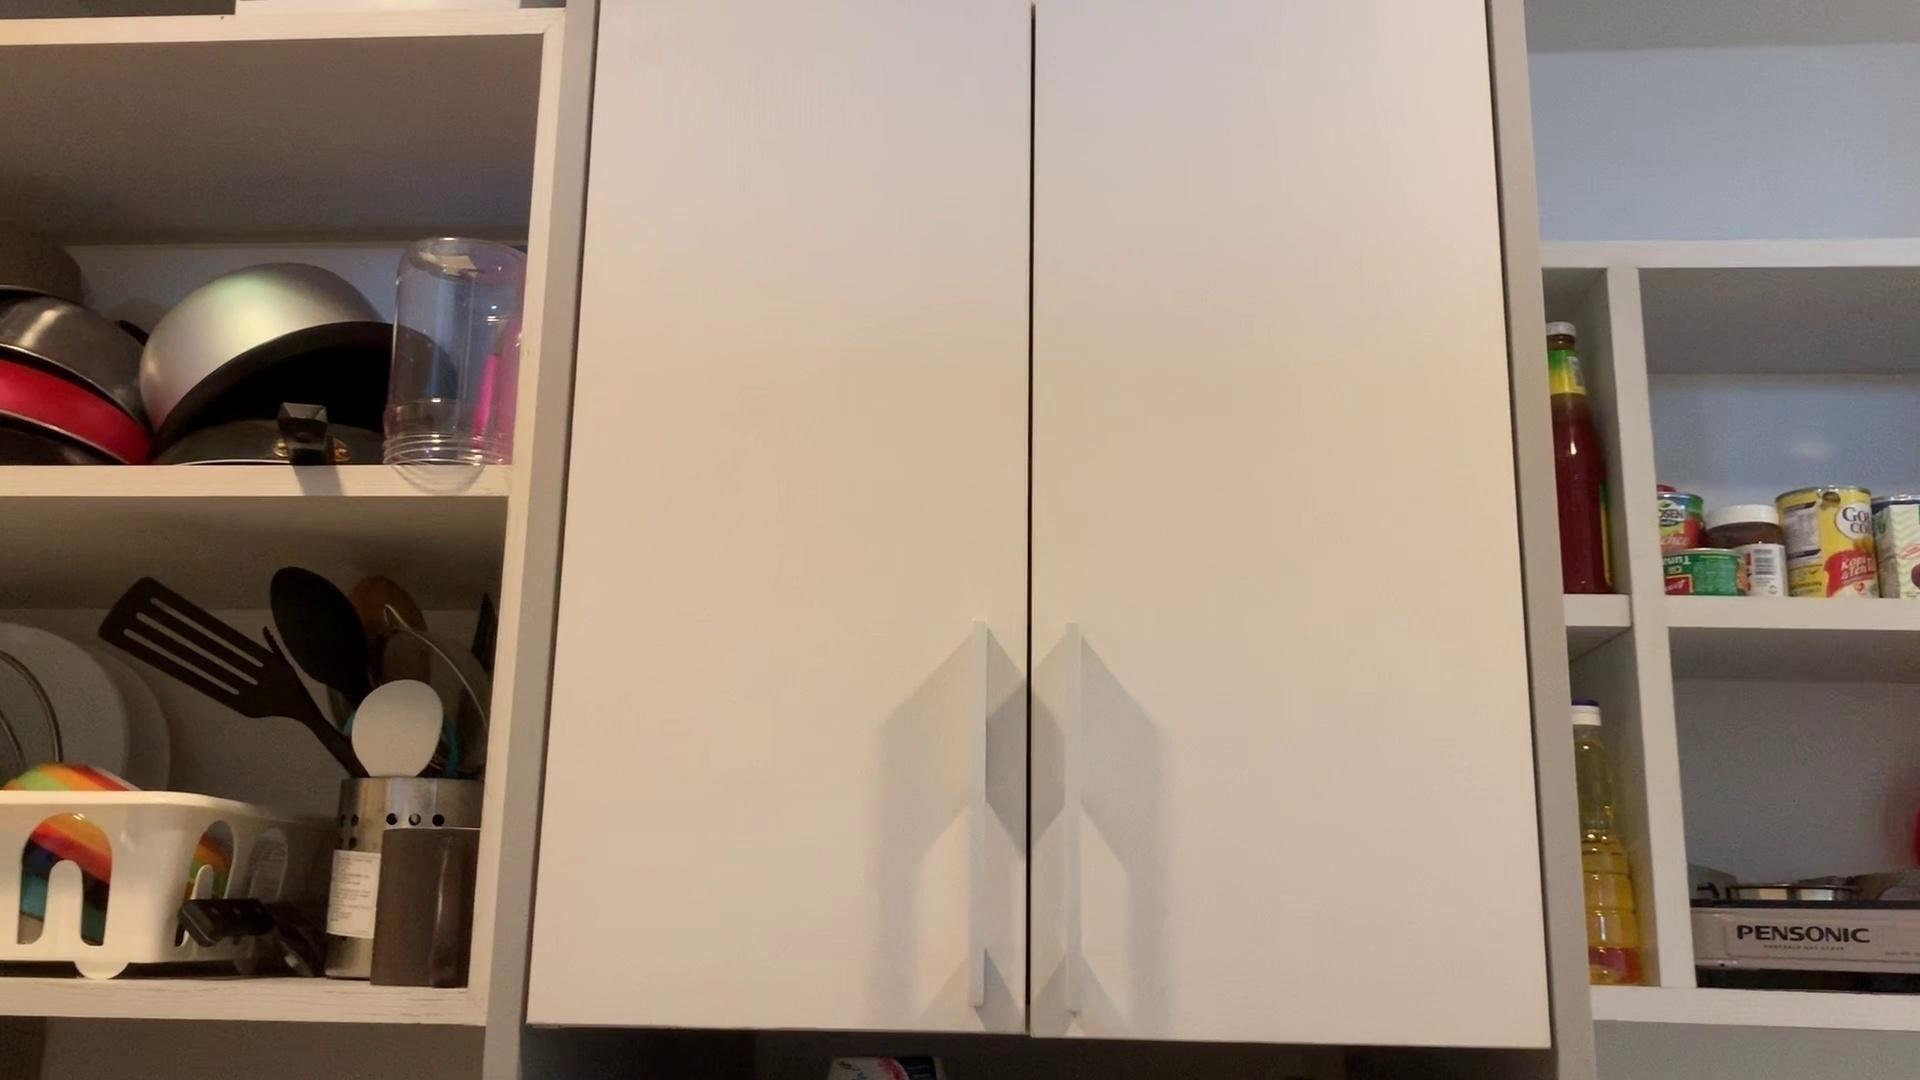cabinet_door: (1031, 0, 1514, 1047), (574, 1, 1025, 1040)
handle: (1054, 612, 1095, 1029), (960, 612, 997, 1019)
